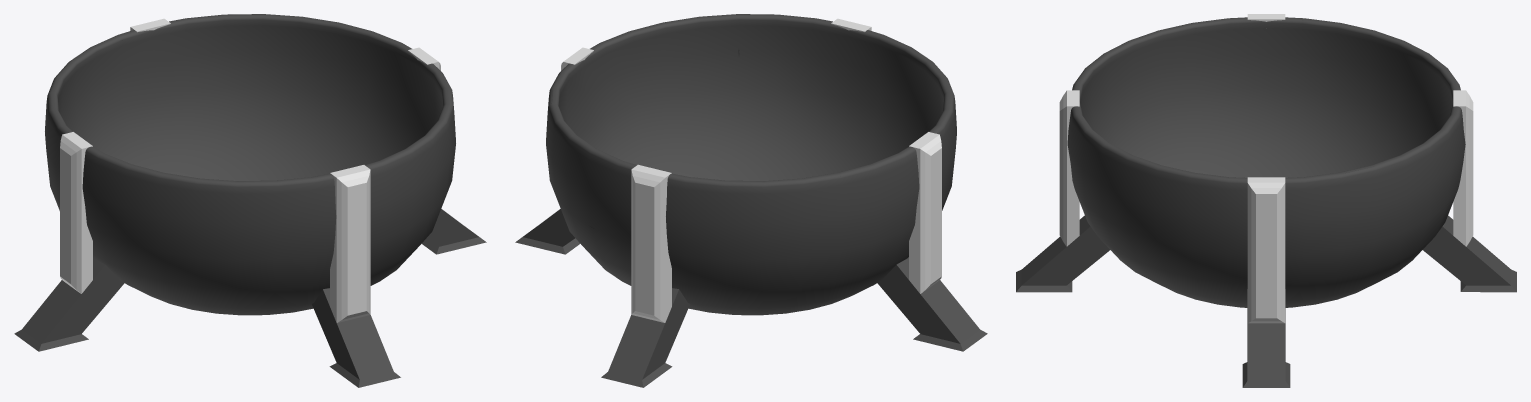
The model's file is ball_receive.fbx.
3 views of the same model, side by side, from view 1: azimuth 30°, elevation 25°; view 2: azimuth 150°, elevation 25°; view 3: azimuth 270°, elevation 25° (orthographic). The views are drawn at different scales.
Visible parts, largest first — view 1: Bowl, Cube.002, Cube.003; view 2: Bowl, Cube.001, Cube.003; view 3: Bowl, Cube, Cube.002, Cube.001.
Boxes of the visible parts, x1,y1,x2,y2 form: Bowl: (14, 14, 486, 387); Cube.002: (330, 165, 370, 322); Cube.003: (60, 132, 92, 293); Bowl: (515, 14, 987, 387); Cube.001: (631, 164, 671, 322); Cube.003: (909, 132, 941, 293); Bowl: (1016, 17, 1516, 387); Cube: (1247, 177, 1285, 323); Cube.002: (1059, 90, 1079, 246); Cube.001: (1453, 90, 1473, 246).
Size of the model in its own units: 306 by 124 by 306.
2 materials, 1 textured.
